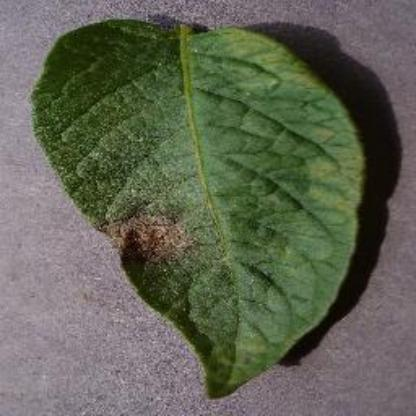Late-Blight: (28, 13, 378, 403)
